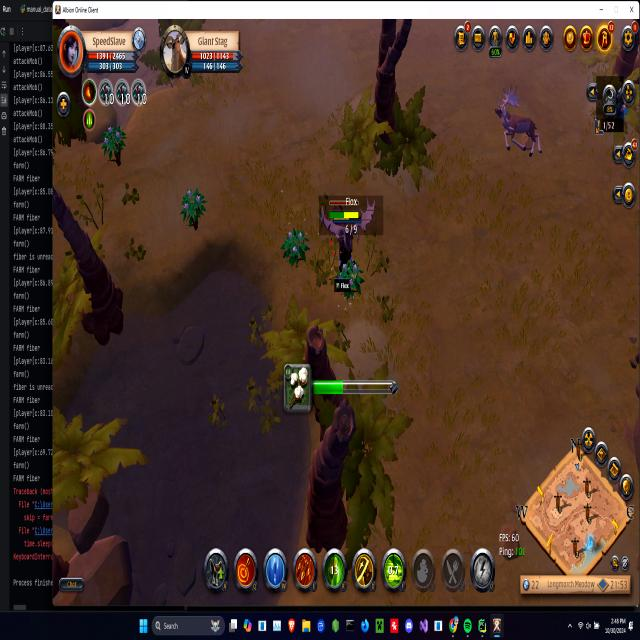hide: (180, 182, 206, 232), (282, 223, 309, 271), (338, 256, 363, 302), (102, 121, 125, 164)
mob: (493, 84, 545, 158)
ore: (317, 196, 379, 260)
red: (328, 207, 360, 291)
